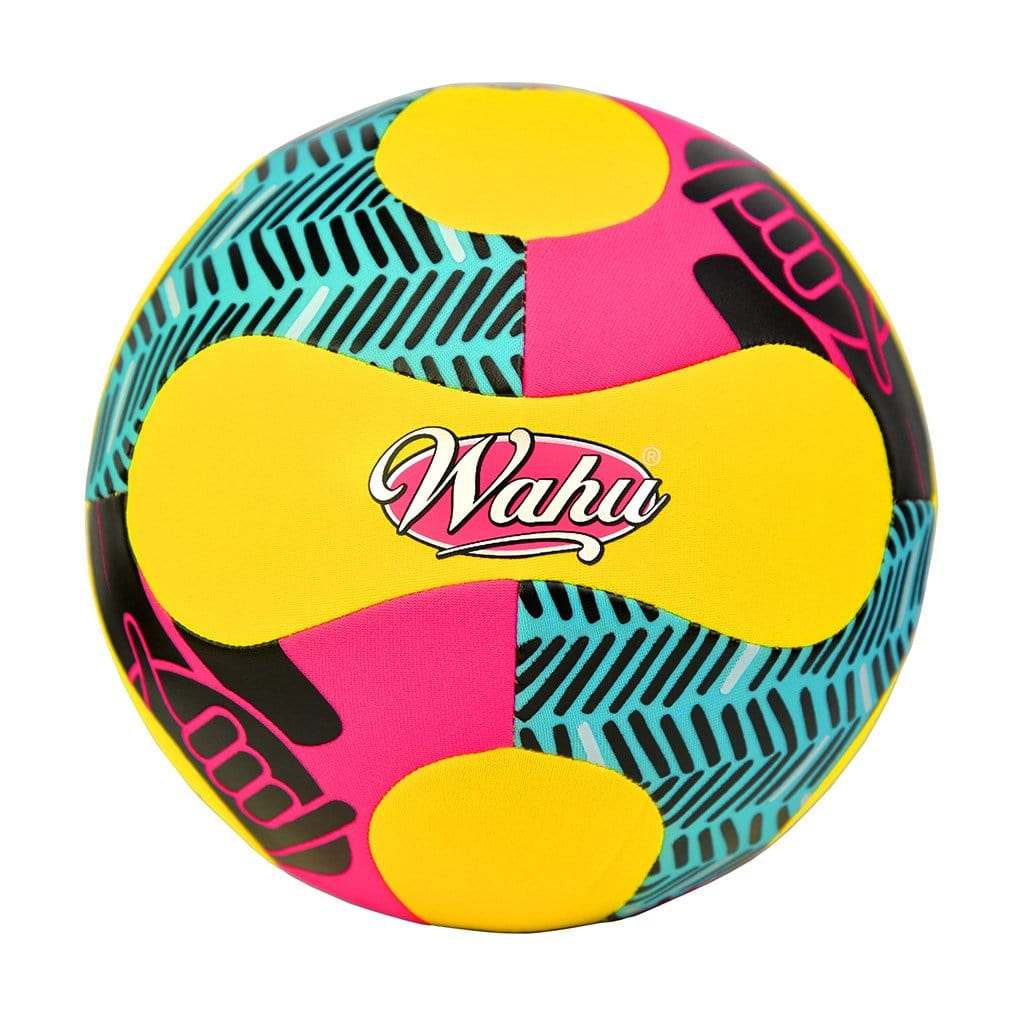sphere: (84, 82, 937, 933)
